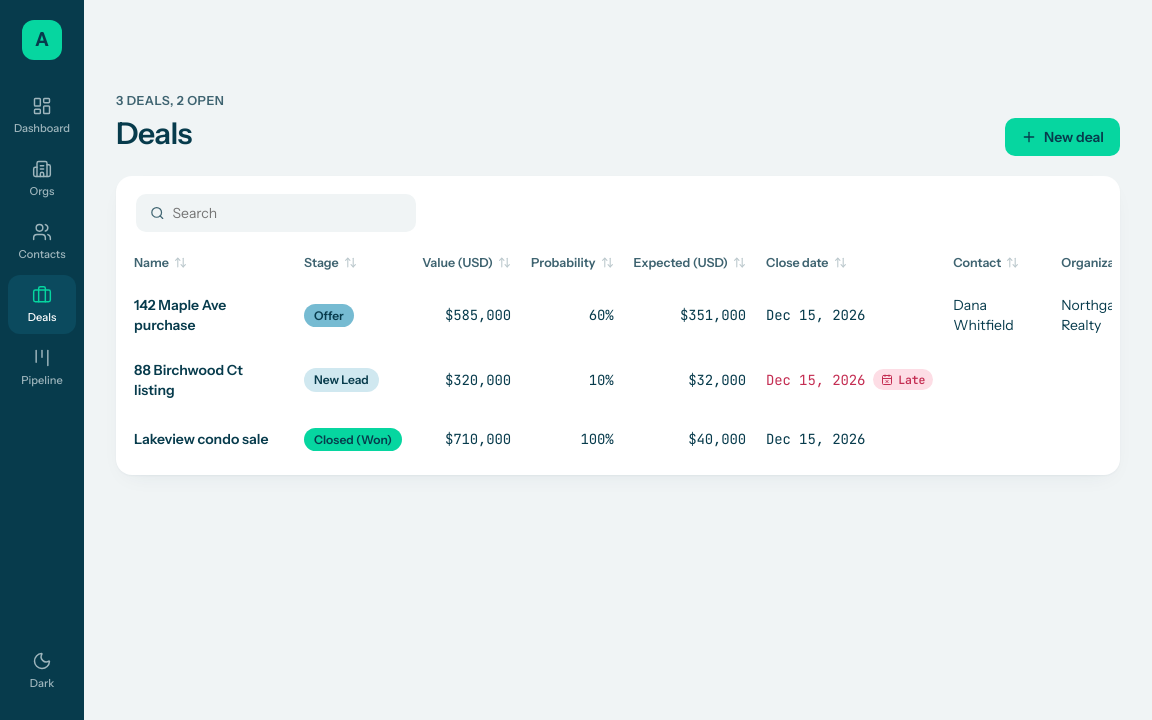
it: adding and editing deals from the list › closes the form without saving on Cancel
The width and height of the screenshot is (1152, 720).
Click the button "New deal" at (1063, 137), box [1005,118,1120,156]
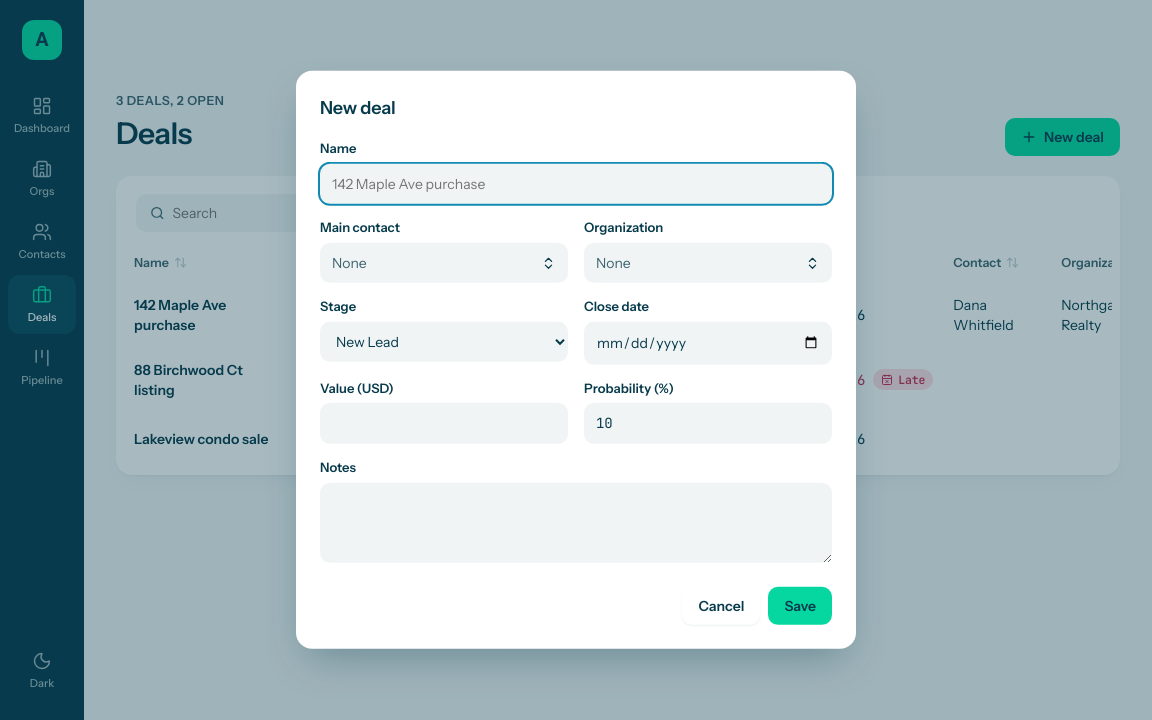
Click the button "Cancel" at (721, 606), box [682,587,760,625]
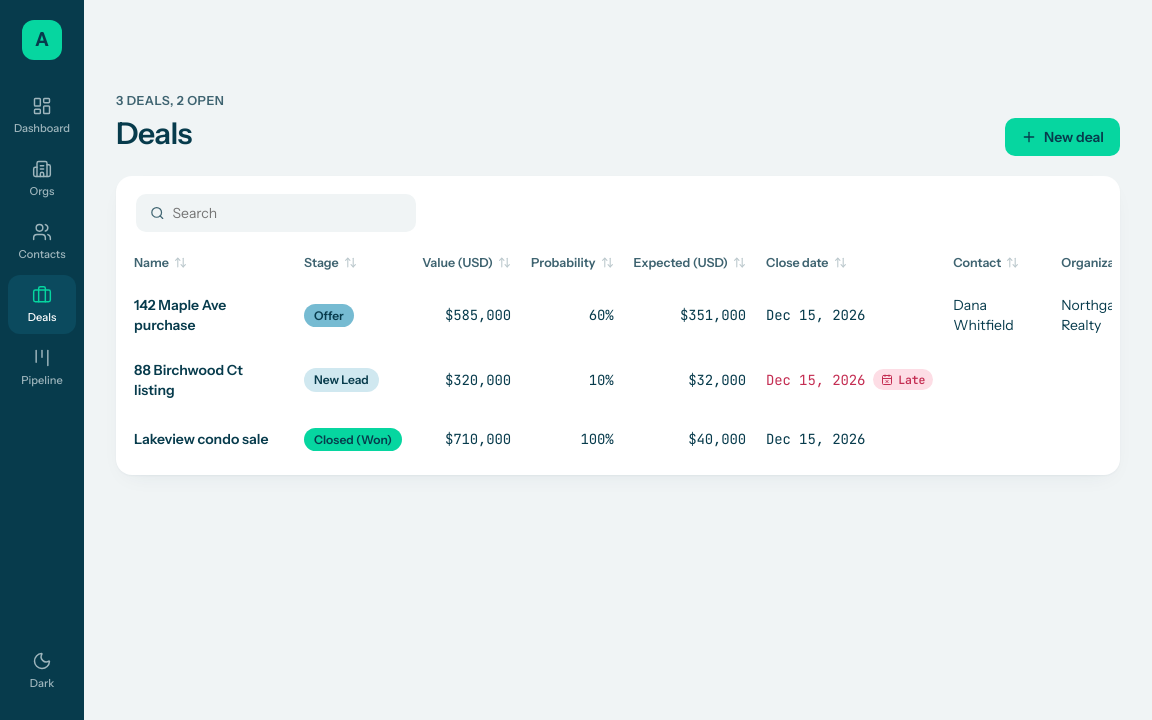
Expected: the dialog is gone
